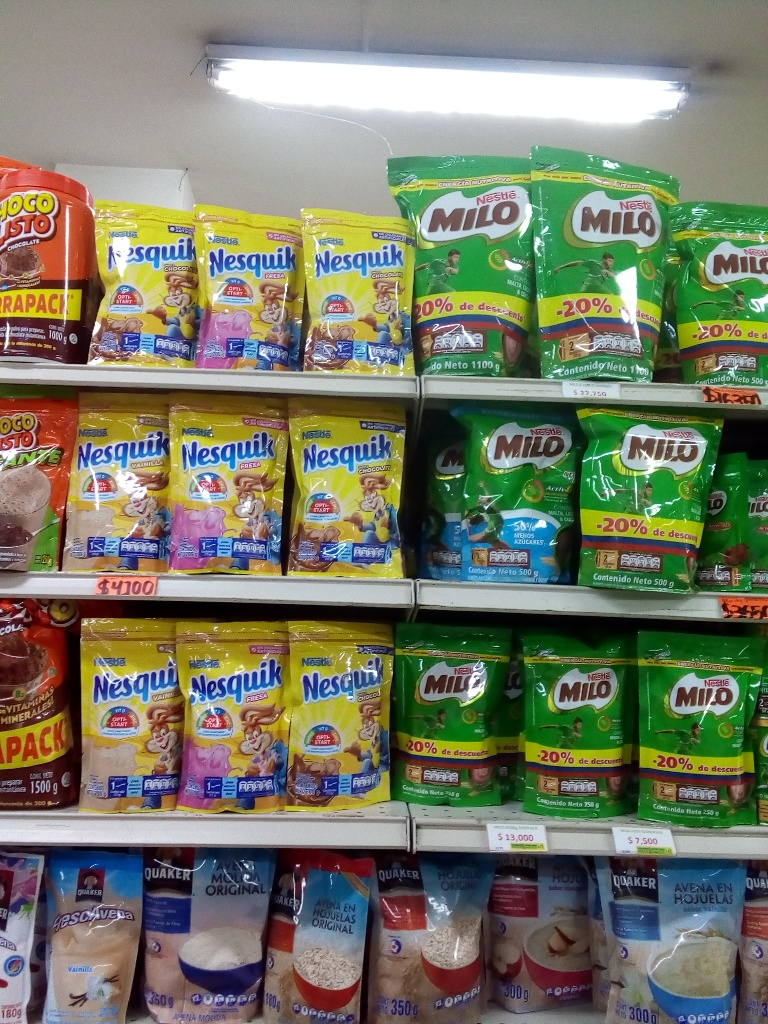COL0170102DYP25000: (1, 412, 61, 572)
COL0170103DYP1,500: (1, 593, 81, 819)
COL0170103TRR00100: (0, 154, 86, 370)
COL0170203DYP10000: (707, 452, 768, 592)
COL0170203DYP25000: (398, 612, 523, 816)
COL0170203DYP50000: (670, 182, 766, 384)
COL0170205DYP50000: (430, 404, 578, 584)
COL0170303DYP20000: (300, 205, 410, 379)
COL0170305DYP20000: (184, 207, 301, 369)
COL0170306DYP20000: (65, 387, 166, 575)
